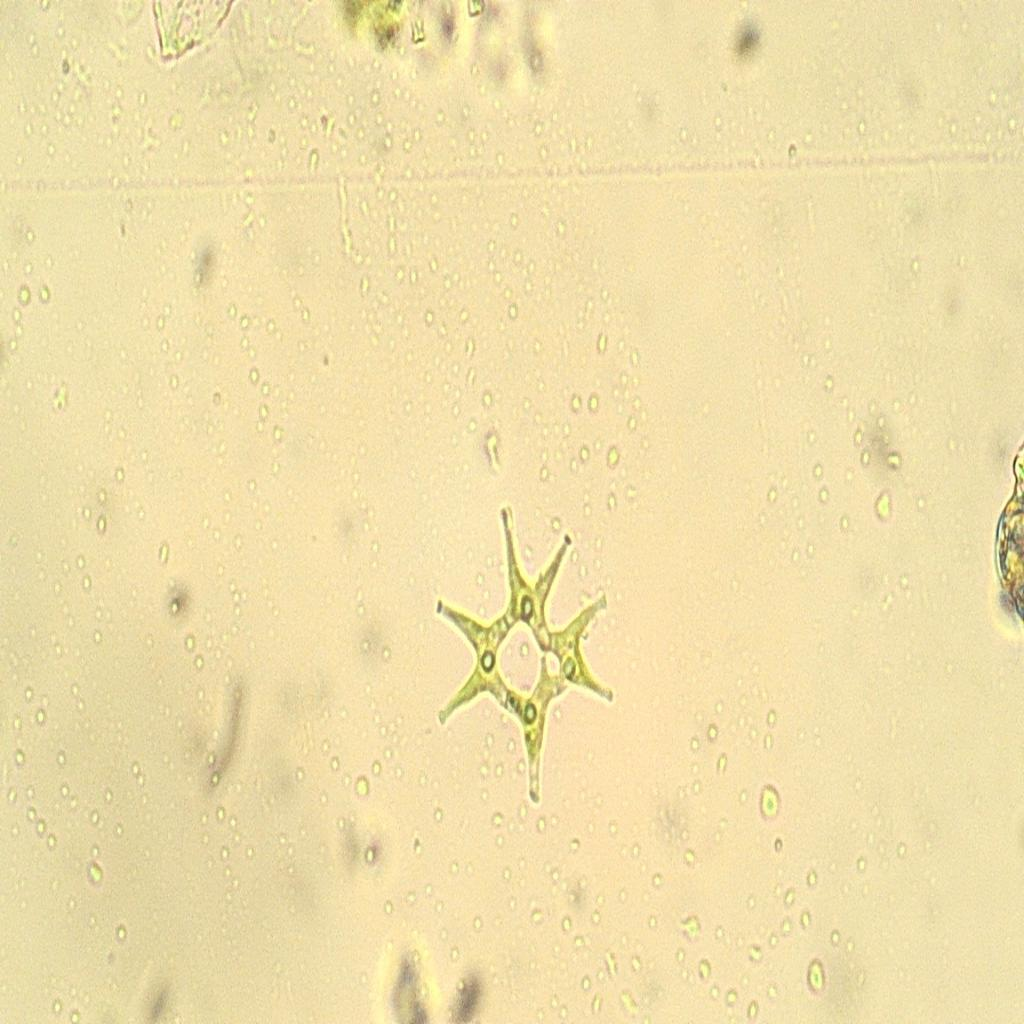Pediastrum_75FO: (430, 500, 630, 809)
